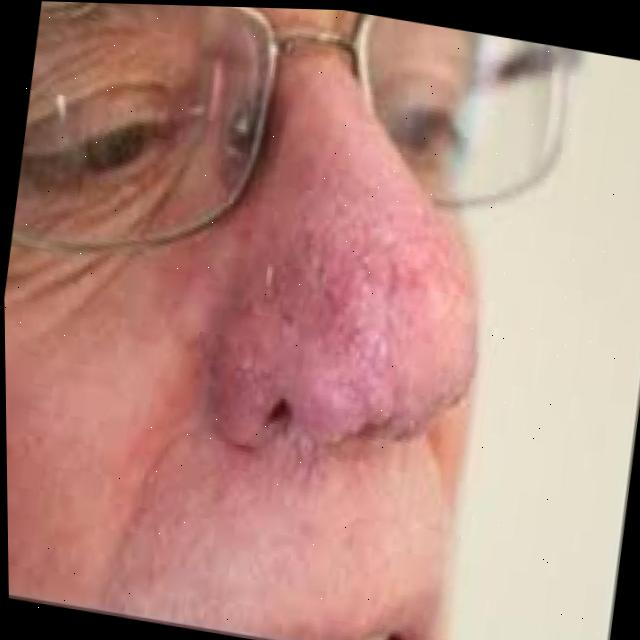Rosacea: (241, 219, 468, 406)
